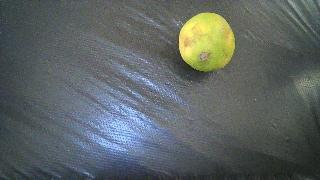DESECHO: (179, 13, 235, 72)
